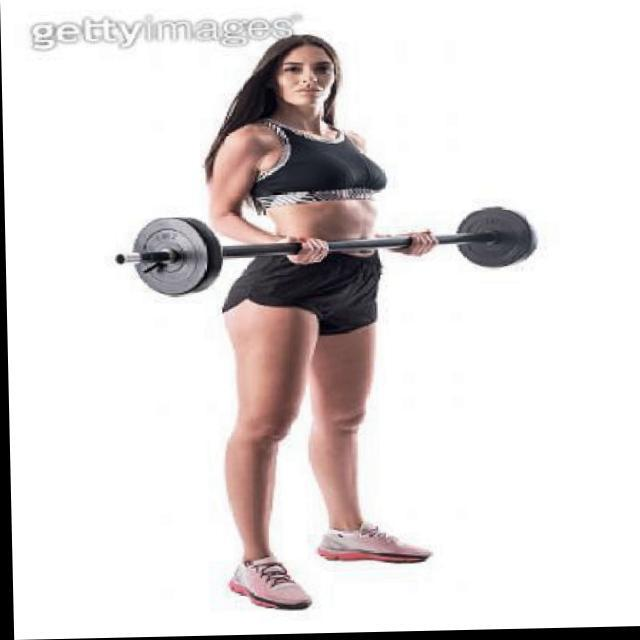barbell: (101, 214, 219, 305)
